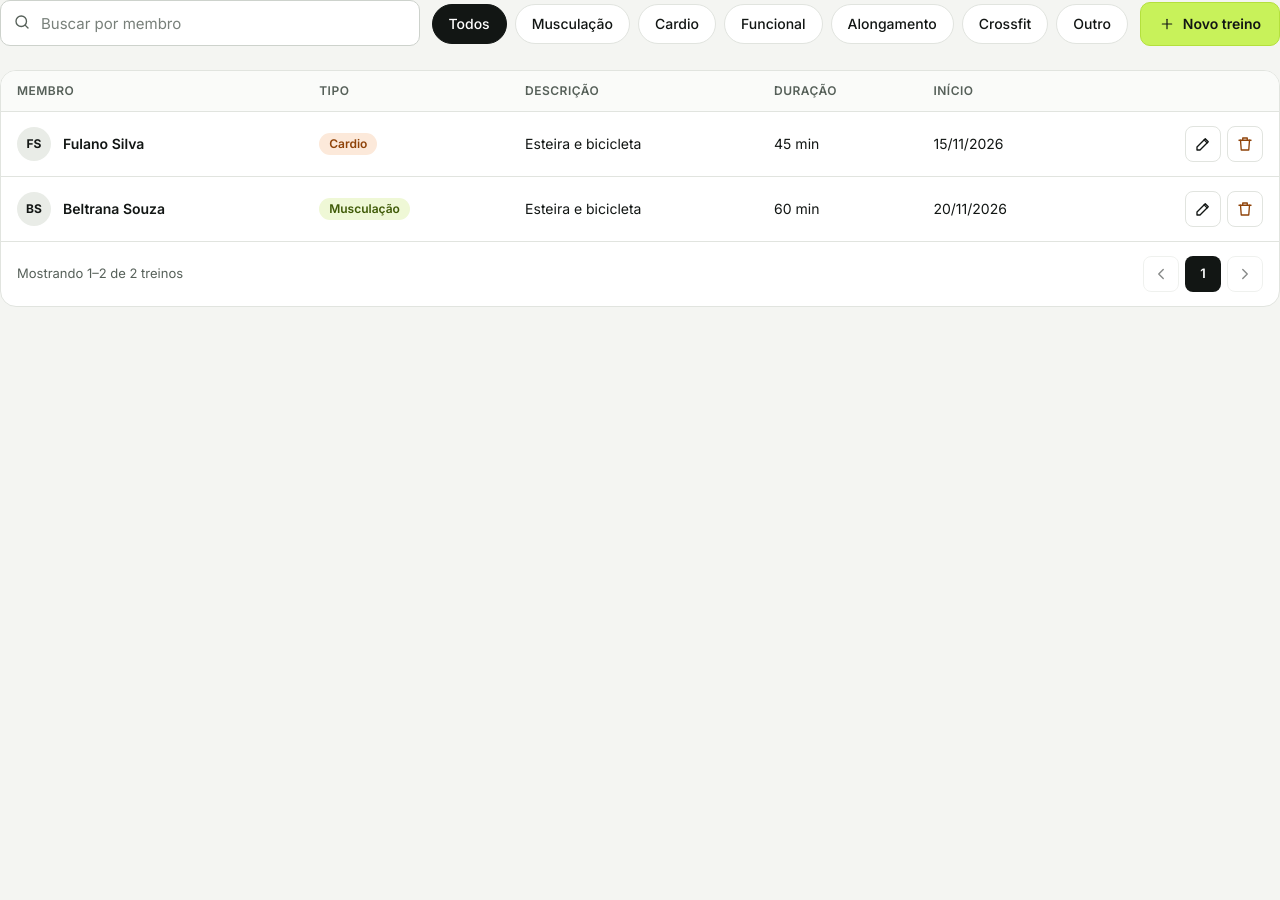
Scenario: TelaTreinos › excluir › mostra a mensagem da API quando a exclusão falha e fecha a confirmação
Expected: the text "Fulano Silva" is shown, [63,134,144,154]
Click the button named "Excluir treino Cardio de Fulano Silva com início em 15/11/2026": (1245,144) [1227,126,1263,162]
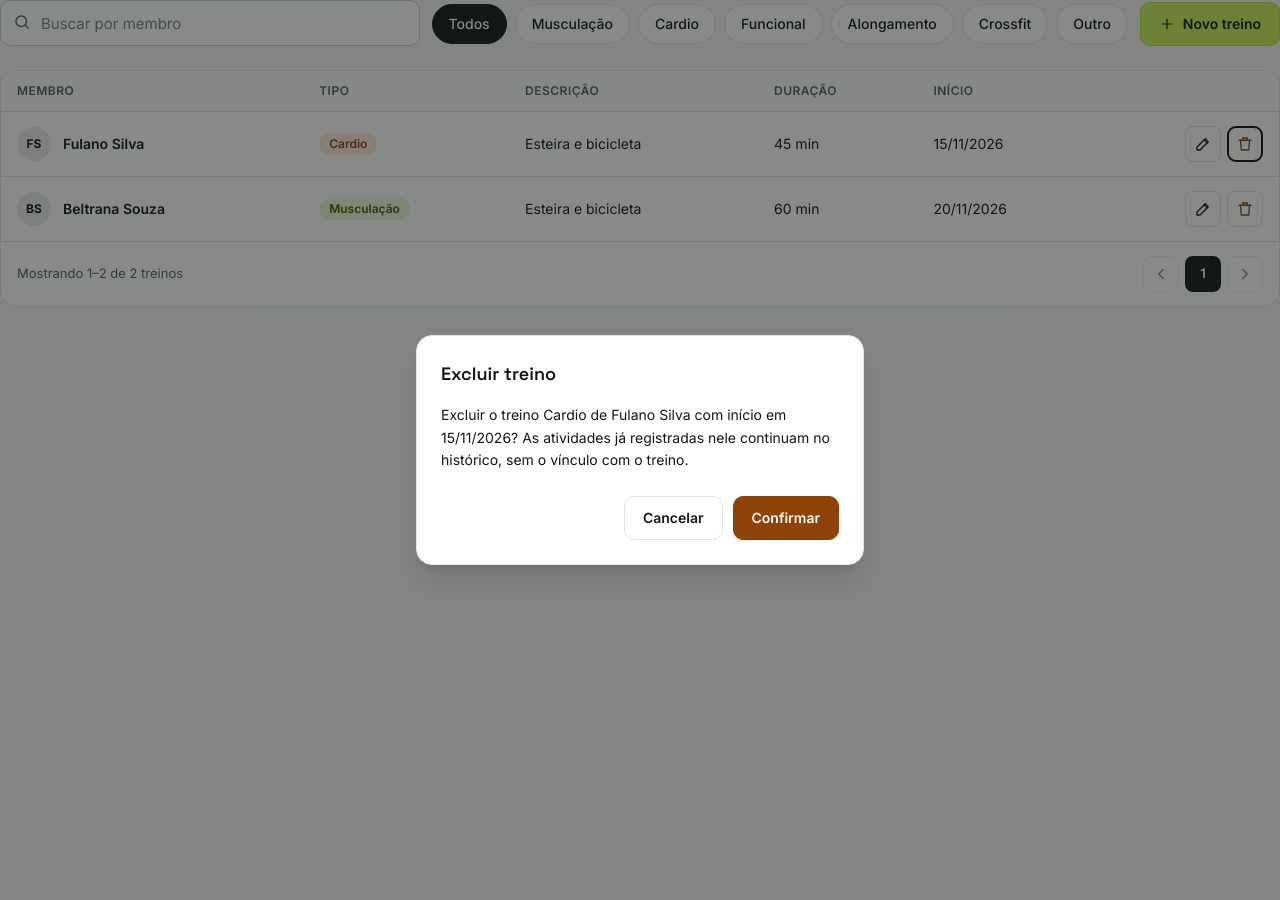
Click the button "Confirmar": (786,518) [732,496,839,540]
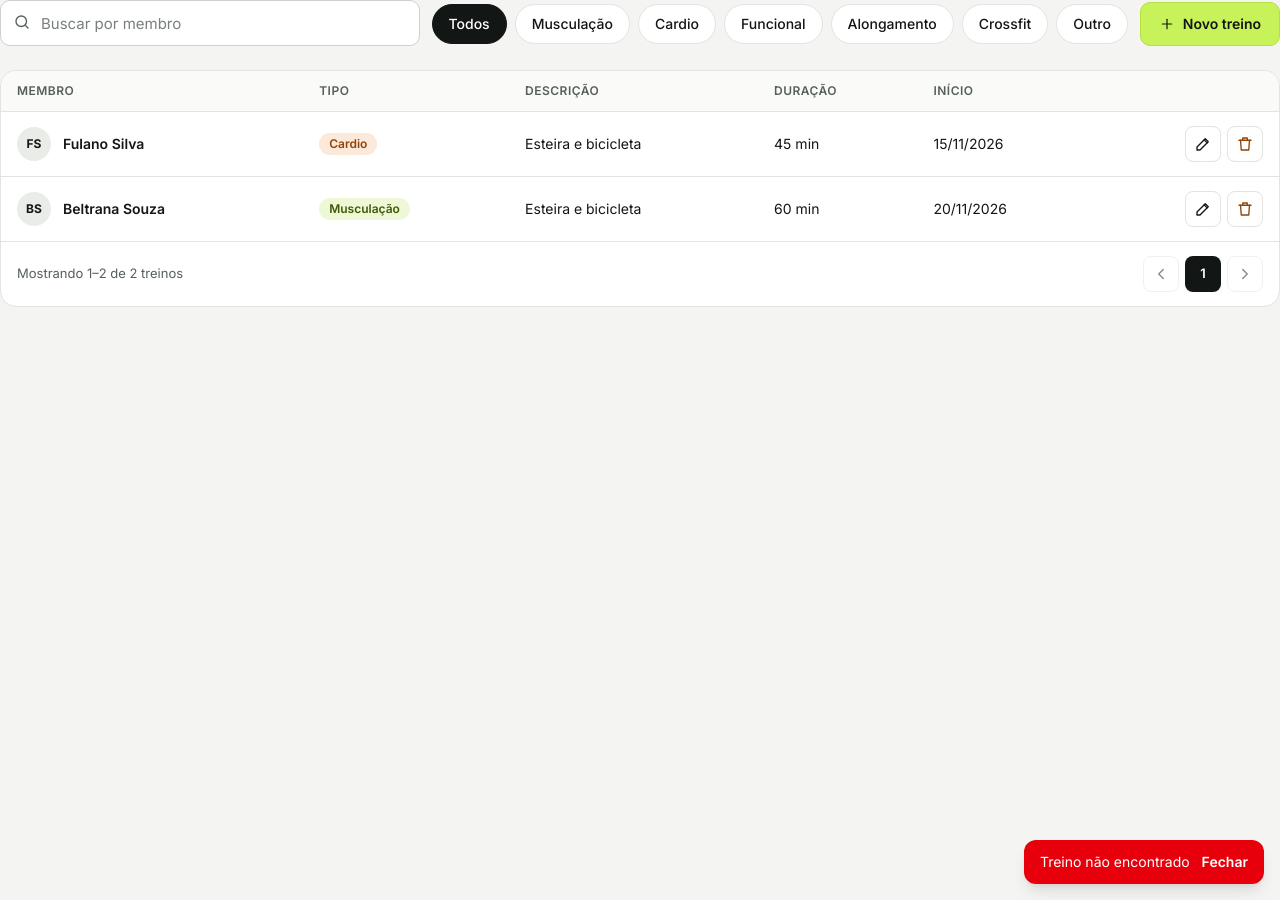
Expected: the text "Treino não encontrado" is shown, [1040,852,1190,872]
Expected: the dialog is gone
